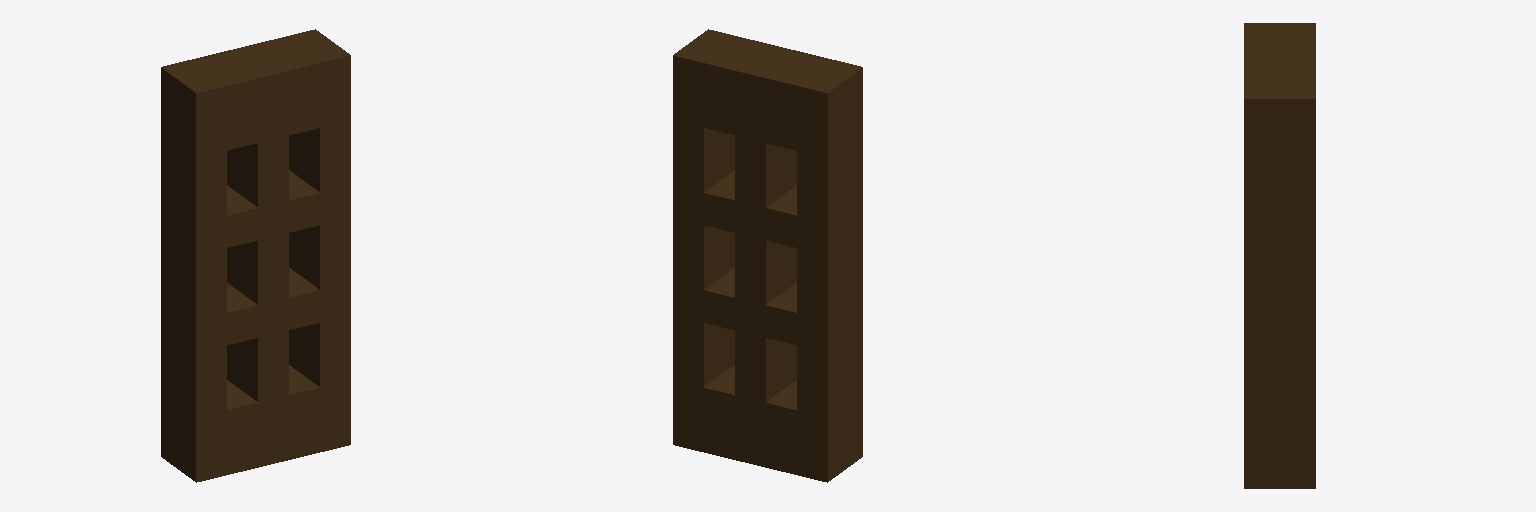
The picture shows the model from 3 angles: view 1: azimuth 30°, elevation 25°; view 2: azimuth 150°, elevation 25°; view 3: azimuth 270°, elevation 25°; orthographic projection.
Visible parts, largest first — view 1: object 1; view 2: object 1; view 3: object 1.
Part boxes in pixels (left/top/right/bottom): object 1: left=161, top=29, right=350, bottom=482; object 1: left=673, top=29, right=862, bottom=482; object 1: left=1244, top=23, right=1315, bottom=488.
Bounding box in the file's own units: 0.5 × 1.2 × 0.2.
1 materials, 1 textured.